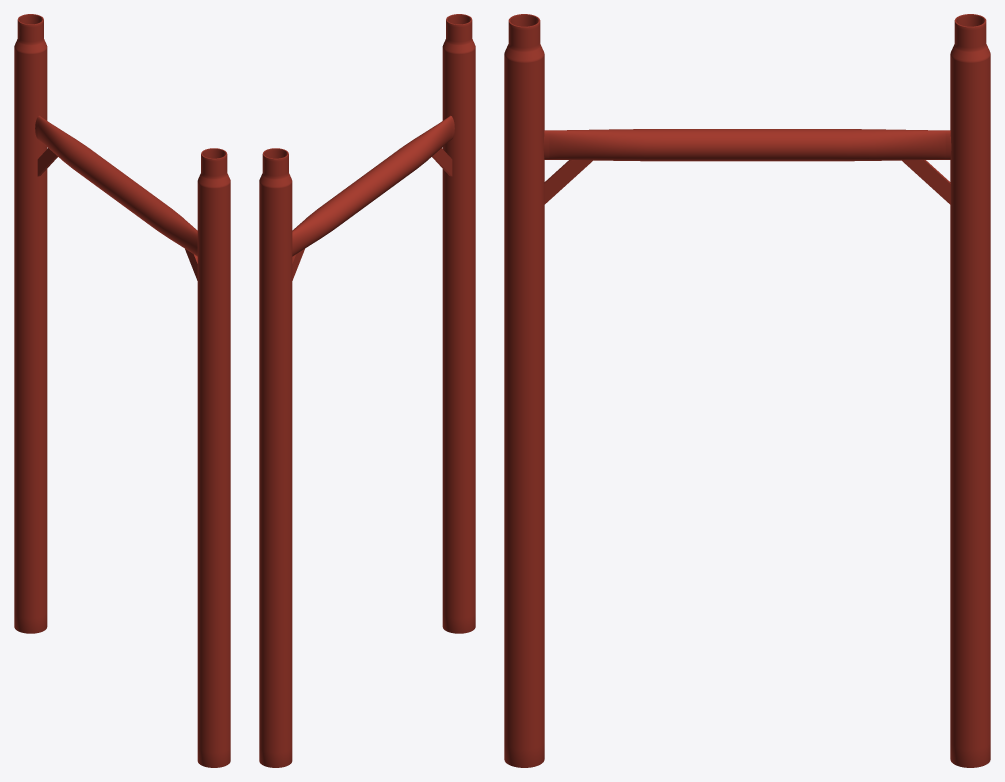
The model's file is h_frame.glb.
3 renders of one model, left to right at view 1: azimuth 30°, elevation 25°; view 2: azimuth 150°, elevation 25°; view 3: azimuth 270°, elevation 25°, orthographic. The views are drawn at different scales.
Visible parts, largest first — view 1: Tube001; view 2: Tube001; view 3: Tube001.
Boxes of the visible parts, <box> form: Tube001: <box>14,14,230,767</box>; Tube001: <box>259,14,475,767</box>; Tube001: <box>504,14,990,767</box>.
Bounding box in the file's own units: 0.0985 × 2 × 1.19.
1 material, 1 textured.
